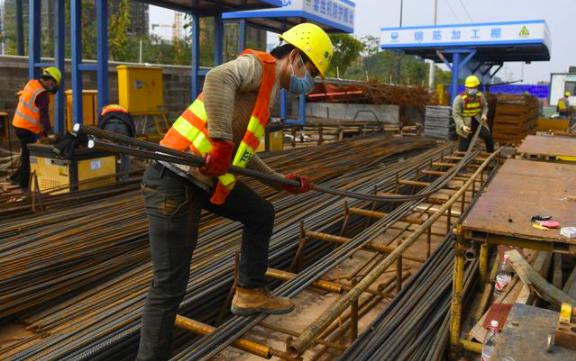person: (137, 17, 336, 361), (8, 64, 63, 195), (447, 76, 494, 156), (555, 91, 574, 125)
